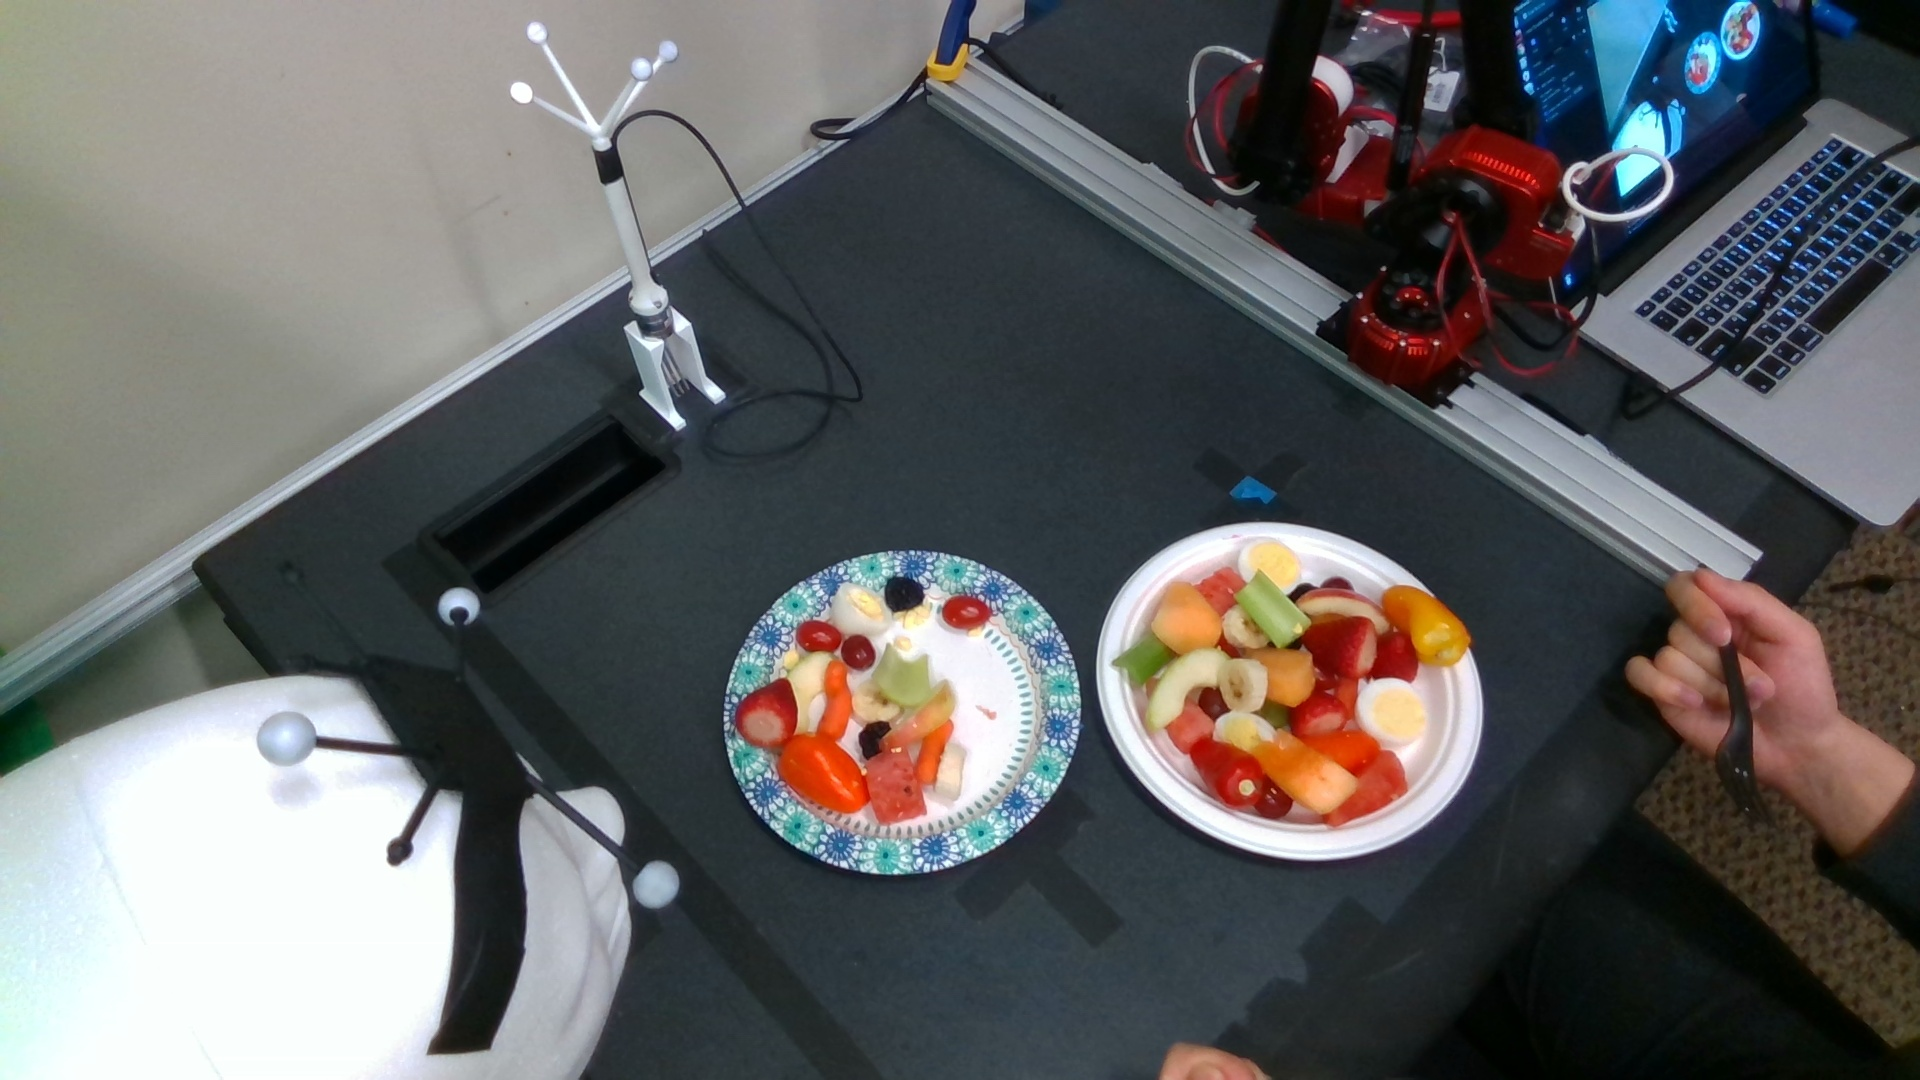apple: (1146, 650, 1238, 735), (880, 684, 956, 752), (1296, 587, 1395, 636), (787, 650, 832, 733)
banana: (1221, 657, 1266, 713), (919, 752, 967, 798)
bell_pepper: (1379, 585, 1470, 669), (777, 732, 869, 814), (1189, 736, 1265, 807)
blackberry: (887, 576, 926, 612)
cantalope: (1251, 731, 1360, 816), (1150, 582, 1222, 653), (1244, 646, 1324, 700)
carrot: (818, 659, 852, 742), (910, 717, 957, 775)
celery: (1237, 570, 1312, 651), (851, 644, 930, 712), (1113, 633, 1171, 686)
cherry_tomato: (942, 596, 989, 625), (796, 621, 841, 651)
egg: (1356, 676, 1425, 744), (1238, 537, 1302, 600), (835, 582, 895, 636)
grape: (843, 636, 876, 669)
melon: (1323, 750, 1406, 825), (864, 748, 930, 825), (1193, 567, 1255, 617)
plate: (1095, 524, 1484, 860), (724, 550, 1083, 876)
strawberry: (735, 676, 796, 749), (1300, 618, 1374, 676), (1361, 632, 1419, 682), (1288, 691, 1348, 737)
